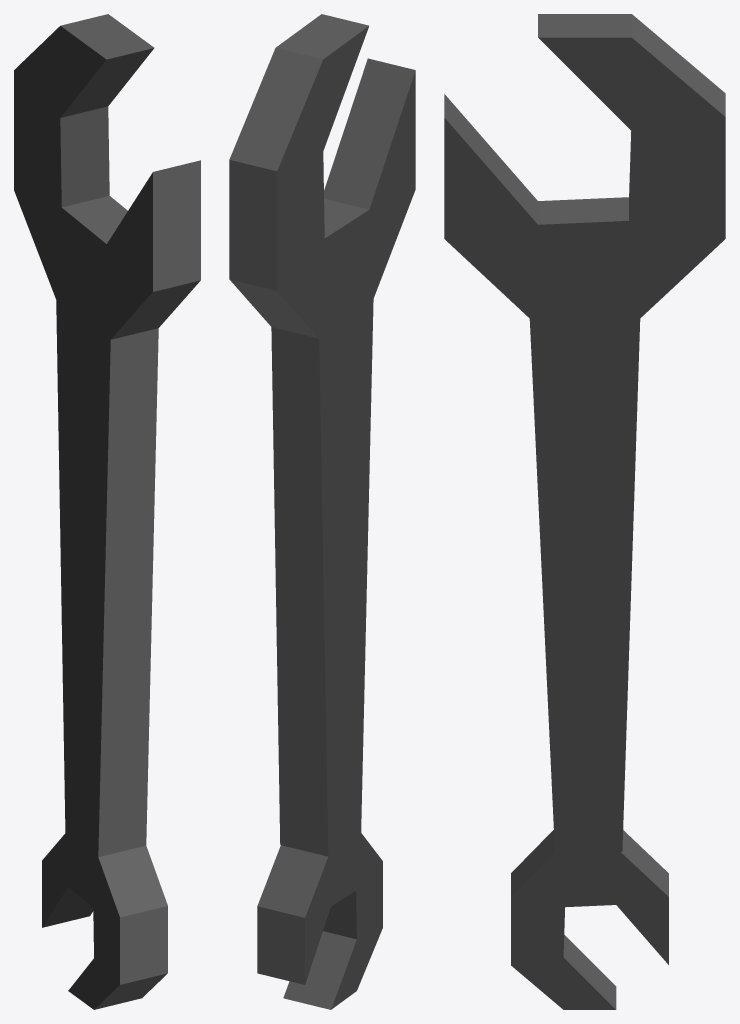
Rendered from Item_Wrench00.FBX.
3 views of the same model, side by side, from view 1: azimuth 30°, elevation 25°; view 2: azimuth 150°, elevation 25°; view 3: azimuth 270°, elevation 25° (orthographic).
Parts seen in each view (by area): view 1: Item_Wrench00; view 2: Item_Wrench00; view 3: Item_Wrench00.
Boxes of the visible parts, bbox=[...] form: Item_Wrench00: bbox=[14, 14, 200, 1009]; Item_Wrench00: bbox=[229, 14, 415, 1009]; Item_Wrench00: bbox=[444, 14, 725, 1009].
Bounding box in the file's own units: 3.09 × 59.13 × 15.52.
